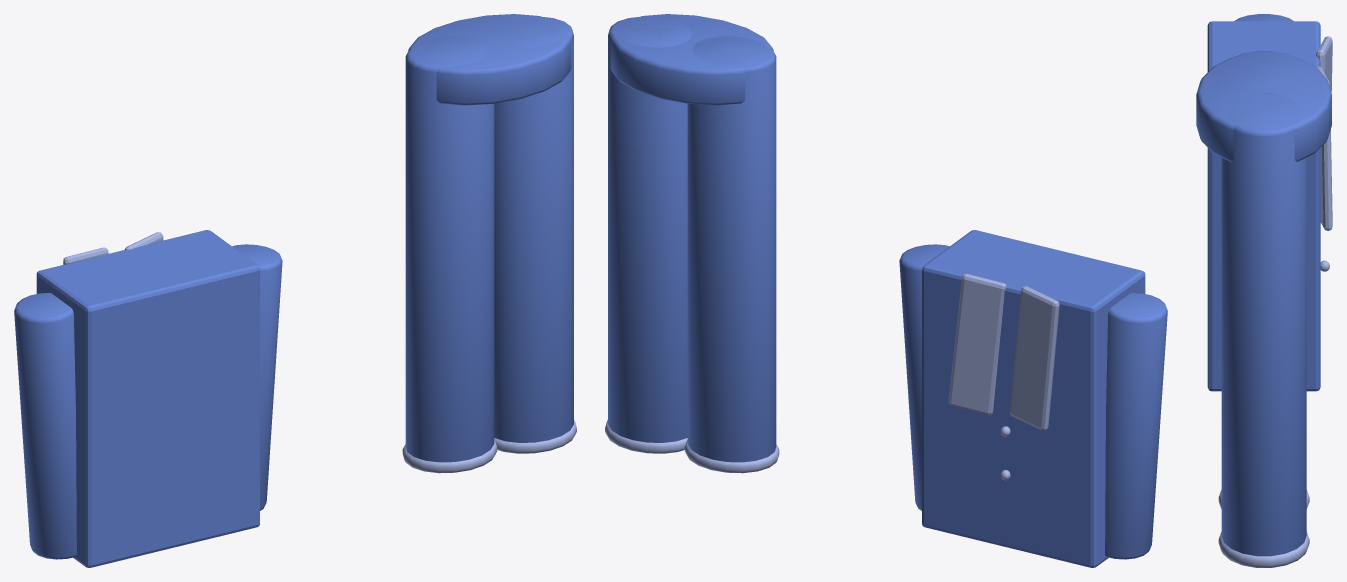
The model's file is VM-DAM-8870.glb.
3 views of the same model, side by side, from view 1: azimuth 30°, elevation 25°; view 2: azimuth 150°, elevation 25°; view 3: azimuth 270°, elevation 25° (orthographic). The views are drawn at different scales.
Visible parts, largest first — view 1: Conjunto Blazer & Pantalón Cobalt; view 2: Conjunto Blazer & Pantalón Cobalt; view 3: Conjunto Blazer & Pantalón Cobalt.
Boxes of the visible parts, x1,y1,x2,y2 form: Conjunto Blazer & Pantalón Cobalt: (14, 14, 576, 567); Conjunto Blazer & Pantalón Cobalt: (605, 14, 1167, 567); Conjunto Blazer & Pantalón Cobalt: (1196, 14, 1332, 567).
Size of the model in its own units: 1.49 by 1.04 by 0.2953.
